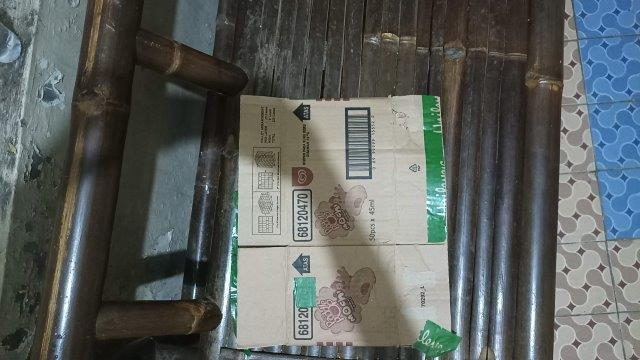kardus: (237, 94, 452, 345)
